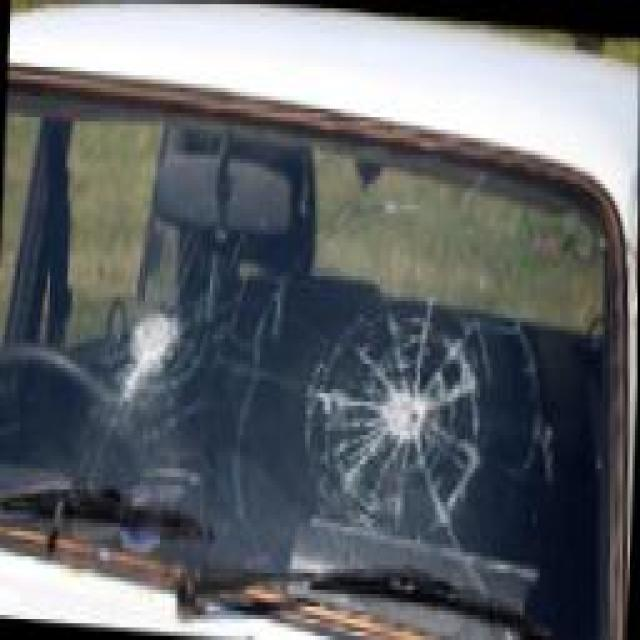Windshield: (0, 67, 610, 640)
